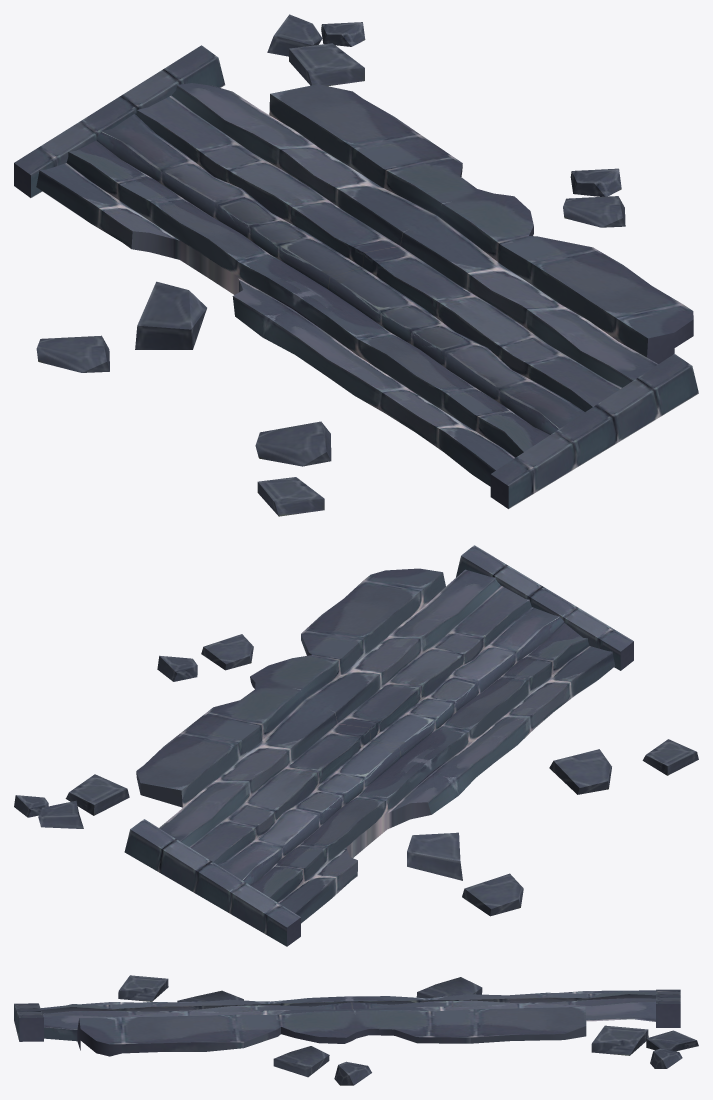
Rendered from Bedaying_taijie.FBX.
The picture shows the model from 3 angles, top to bottom: view 1: azimuth 30°, elevation 25°; view 2: azimuth 150°, elevation 25°; view 3: azimuth 270°, elevation 25°; orthographic projection. The views are drawn at different scales.
Visible parts, largest first — view 1: w; view 2: w; view 3: w.
Boxes of the visible parts, x1,y1,x2,y2 form: w: (14,14,698,516); w: (14,545,698,946); w: (14,975,698,1085).
Size of the model in its own units: 290 by 463 by 72.8.
